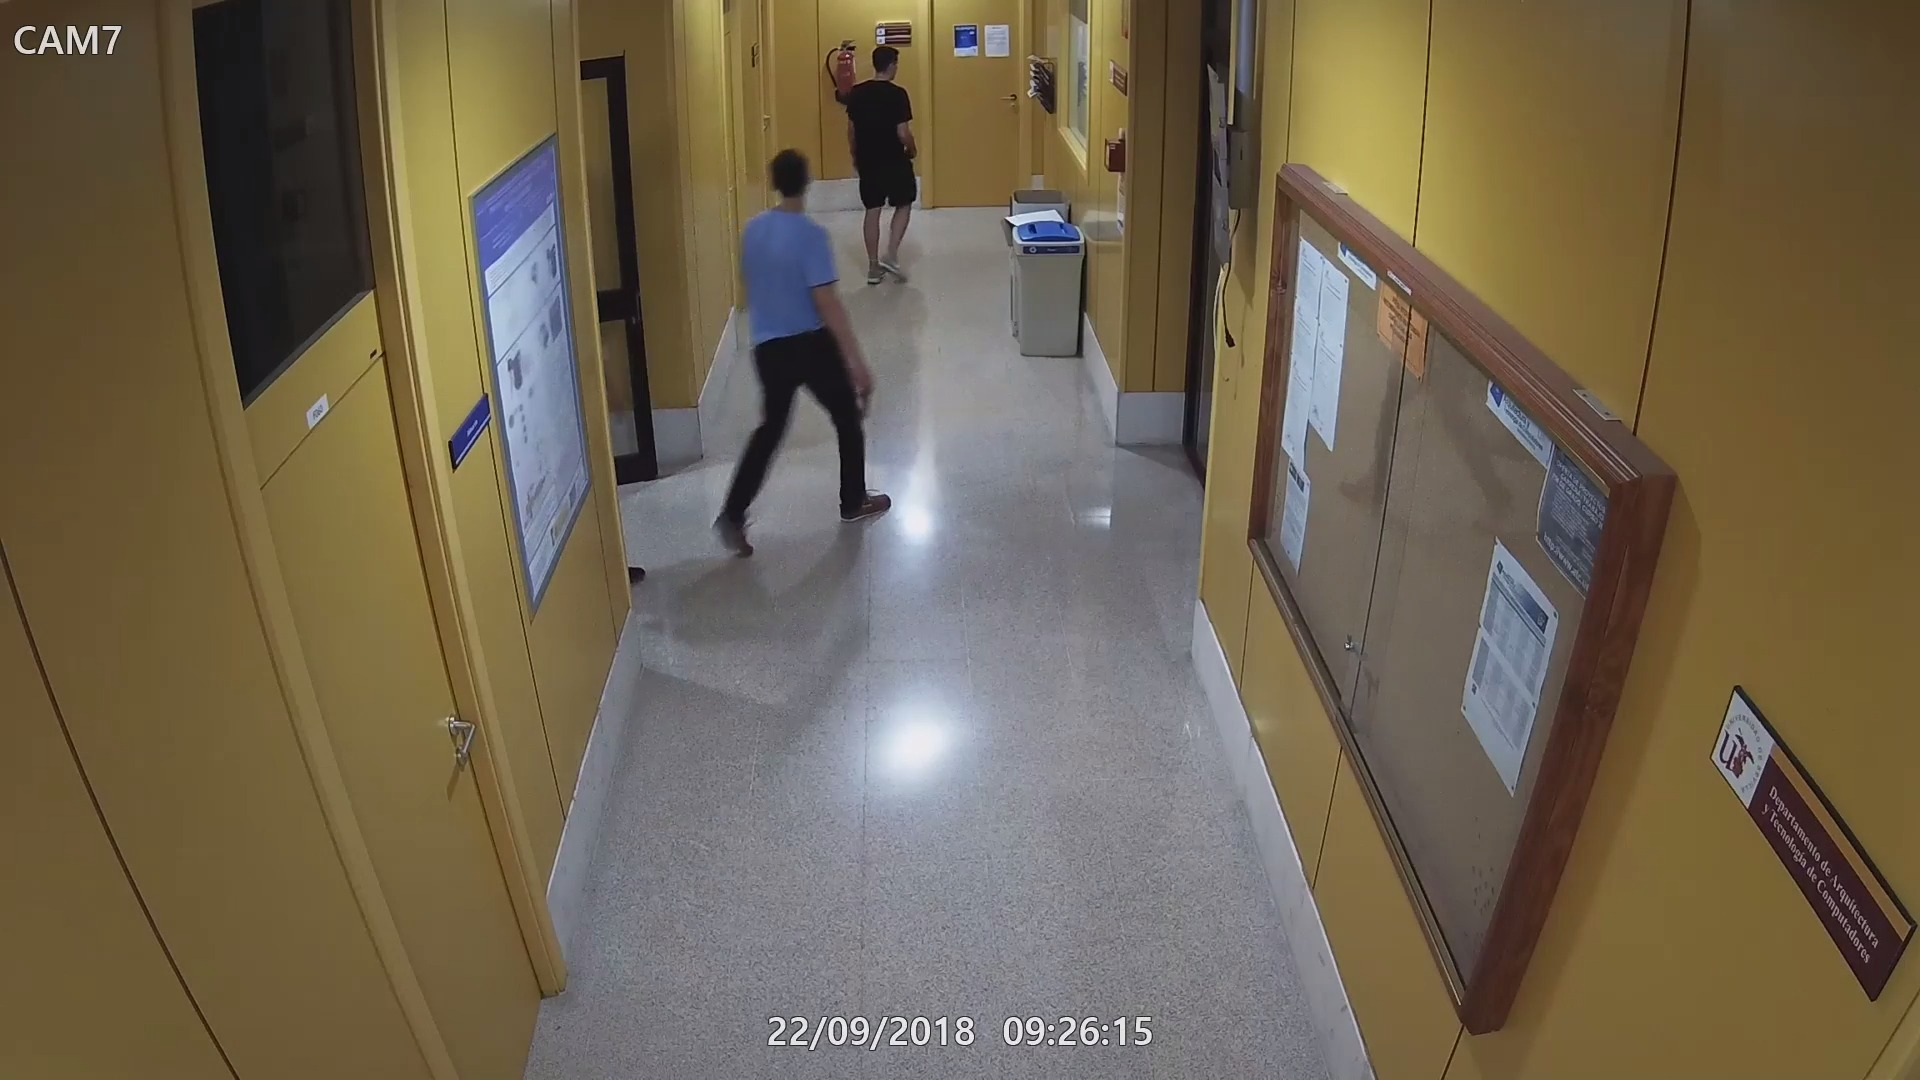pistol: (851, 360, 877, 423)
